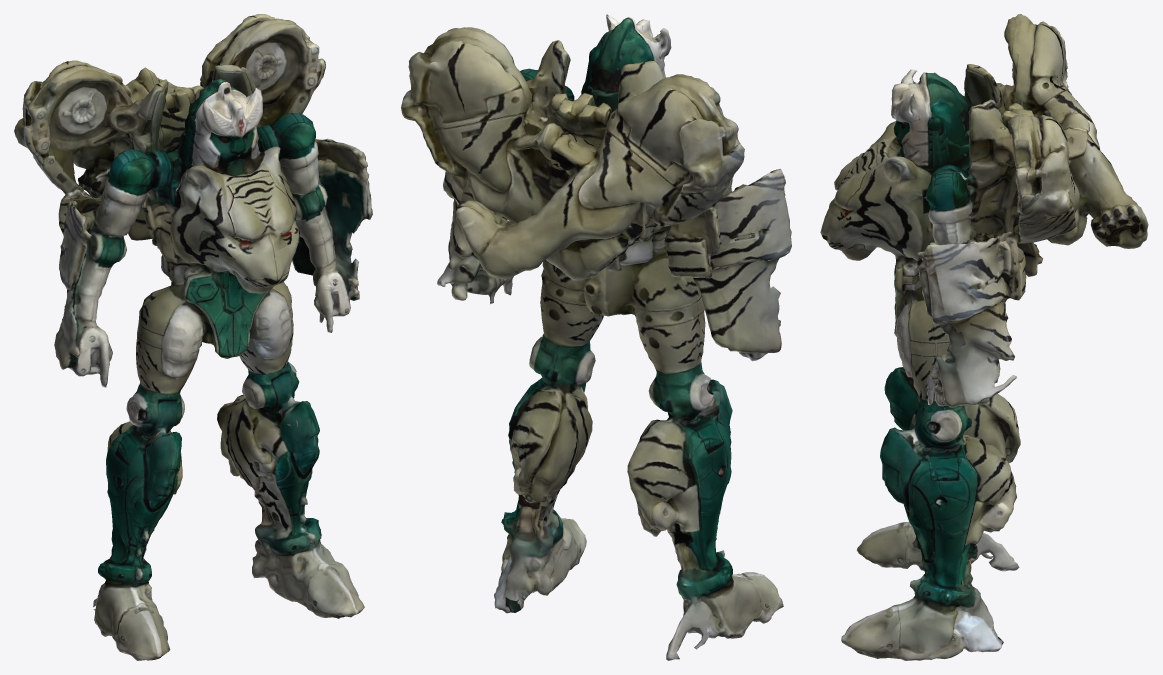
File: tigatron-beast.glb
3 renders of one model, left to right at view 1: azimuth 30°, elevation 25°; view 2: azimuth 150°, elevation 25°; view 3: azimuth 270°, elevation 25°, orthographic. The views are drawn at different scales.
Parts seen in each view (by area): view 1: Geom; view 2: Geom; view 3: Geom.
Part boxes in pixels (bbox=[...]): Geom: bbox=[14, 14, 372, 660]; Geom: bbox=[401, 14, 791, 660]; Geom: bbox=[820, 14, 1148, 660].
Size of the model in its own units: 0.5124 by 0.8702 by 0.4774.
Materials: 1 (1 with a texture image).
